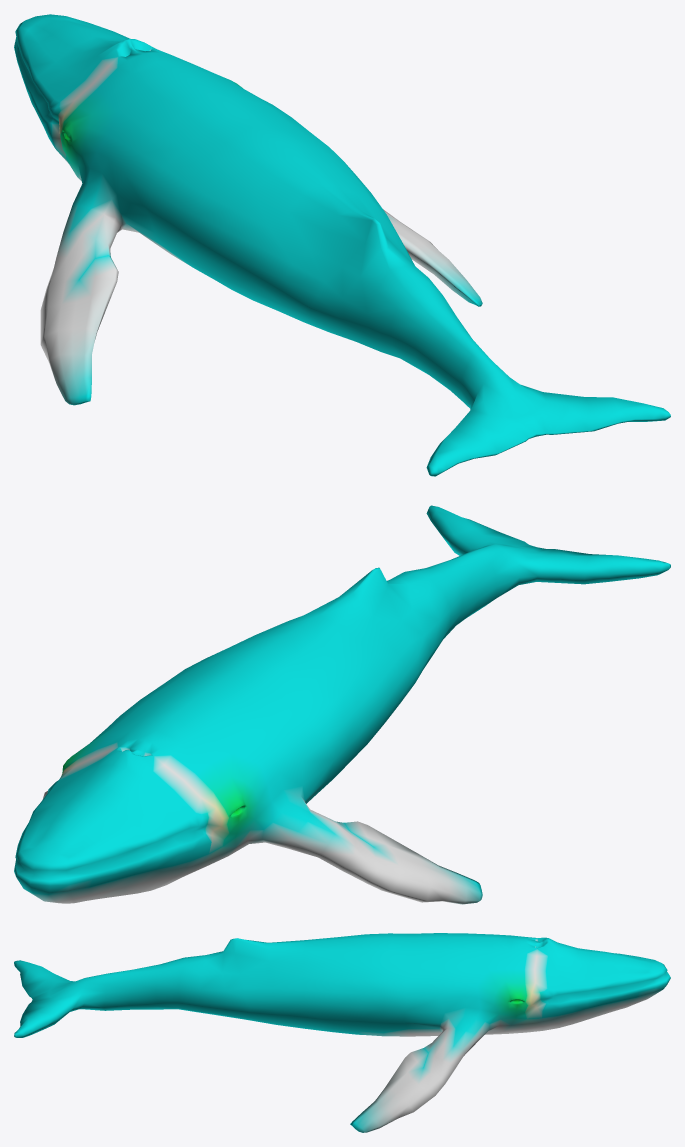
File: whale_ref.glb
3 renders of one model, top to bottom at view 1: azimuth 30°, elevation 25°; view 2: azimuth 150°, elevation 25°; view 3: azimuth 270°, elevation 25°, orthographic. The views are drawn at different scales.
Visible parts, largest first — view 1: whale_ref; view 2: whale_ref; view 3: whale_ref.
Boxes of the visible parts, x1,y1,x2,y2 form: whale_ref: (14,14,670,476); whale_ref: (14,505,670,904); whale_ref: (14,933,670,1132).
Size of the model in its own units: 20.2 by 9.81 by 44.
